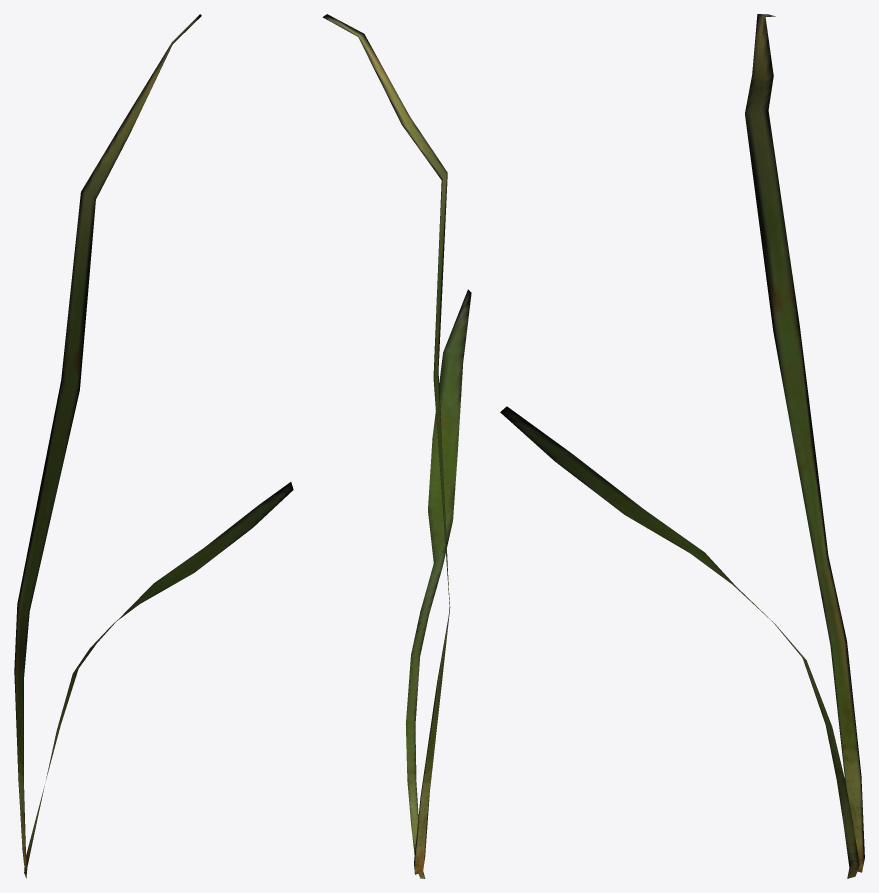
Rendered from grass_medium_01_tiny_c_LOD0.glb.
3 renders of one model, left to right at view 1: azimuth 30°, elevation 25°; view 2: azimuth 150°, elevation 25°; view 3: azimuth 270°, elevation 25°, orthographic. The views are drawn at different scales.
Visible parts, largest first — view 1: grass_medium_01_tiny_c_LOD0; view 2: grass_medium_01_tiny_c_LOD0; view 3: grass_medium_01_tiny_c_LOD0.
Boxes of the visible parts, <box> form: grass_medium_01_tiny_c_LOD0: <box>14,14,293,878</box>; grass_medium_01_tiny_c_LOD0: <box>322,14,471,878</box>; grass_medium_01_tiny_c_LOD0: <box>500,14,864,878</box>.
Bounding box in the file's own units: 0.016 × 0.0824 × 0.029.
Materials: 1 (1 with a texture image).
